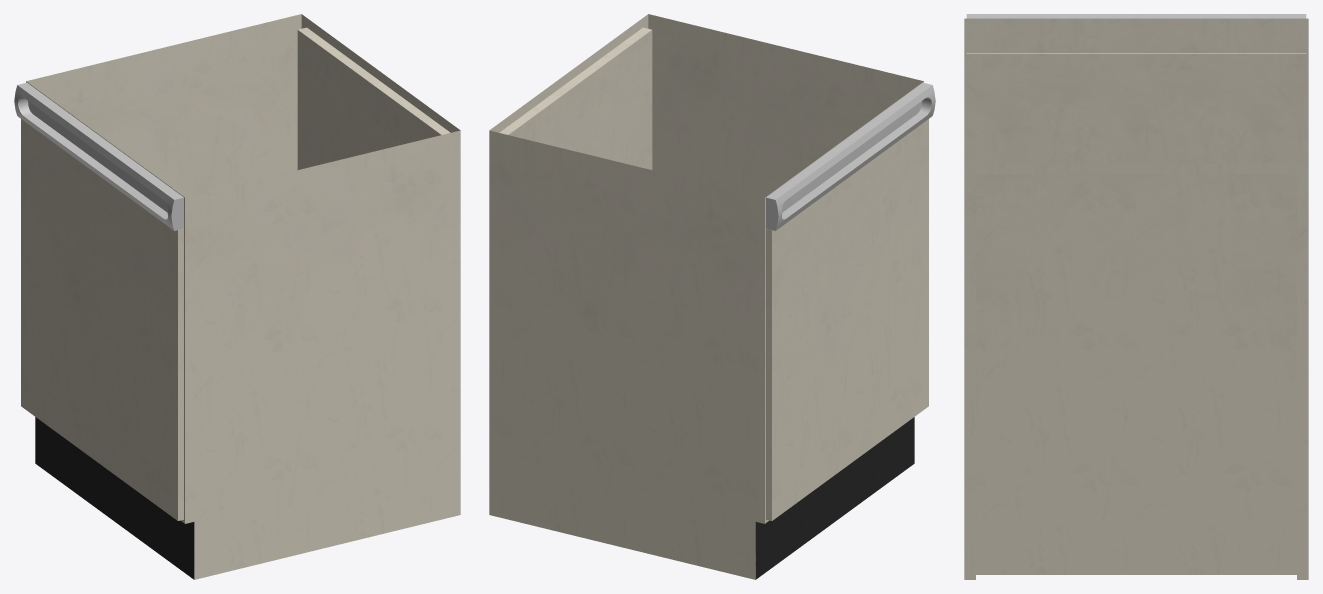
The model's file is SM_Counter_01.fbx.
3 views of the same model, side by side, from view 1: azimuth 30°, elevation 25°; view 2: azimuth 150°, elevation 25°; view 3: azimuth 270°, elevation 25° (orthographic). The views are drawn at different scales.
Parts seen in each view (by area): view 1: SM_Counter_01_LOD0; view 2: SM_Counter_01_LOD0; view 3: SM_Counter_01_LOD0.
Part boxes in pixels (x1,y1,x2,y2): SM_Counter_01_LOD0: (14,14,460,579); SM_Counter_01_LOD0: (489,14,935,579); SM_Counter_01_LOD0: (964,14,1308,579).
Bounding box in the file's own units: 62.78 × 60 × 80.
